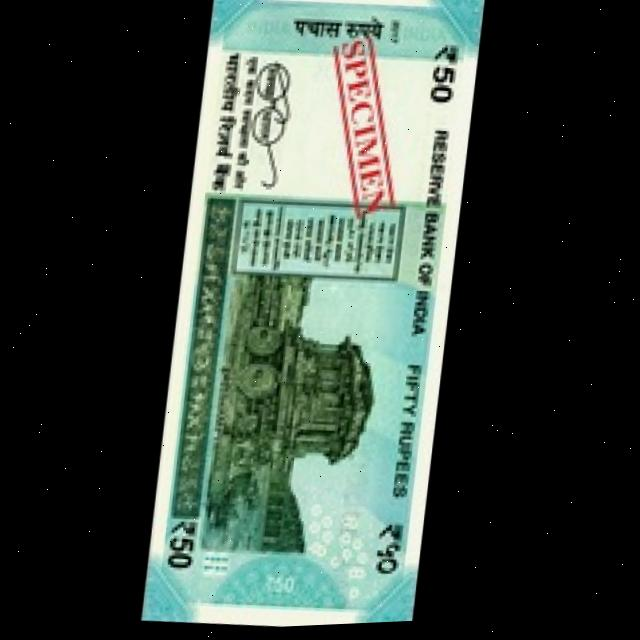banknote: (144, 0, 487, 634)
